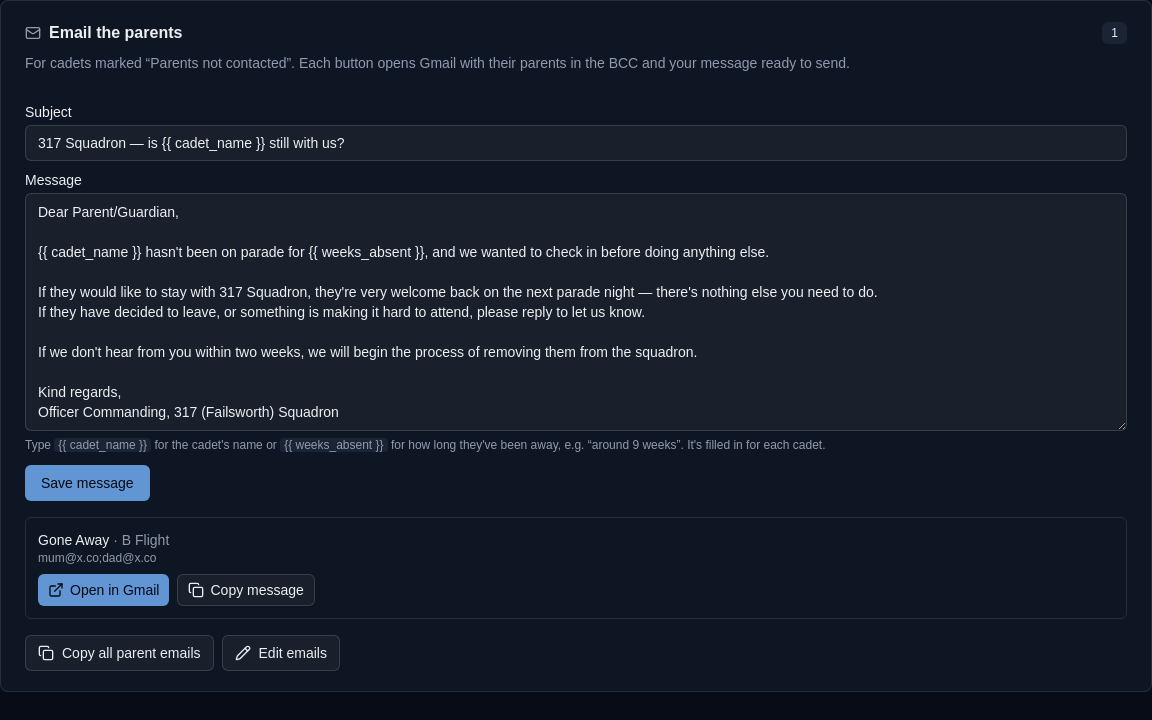
it: ParentEmailsCard › Save stays disabled until a row is changed
Click the button "Edit emails": (281, 653) [222,635,340,671]
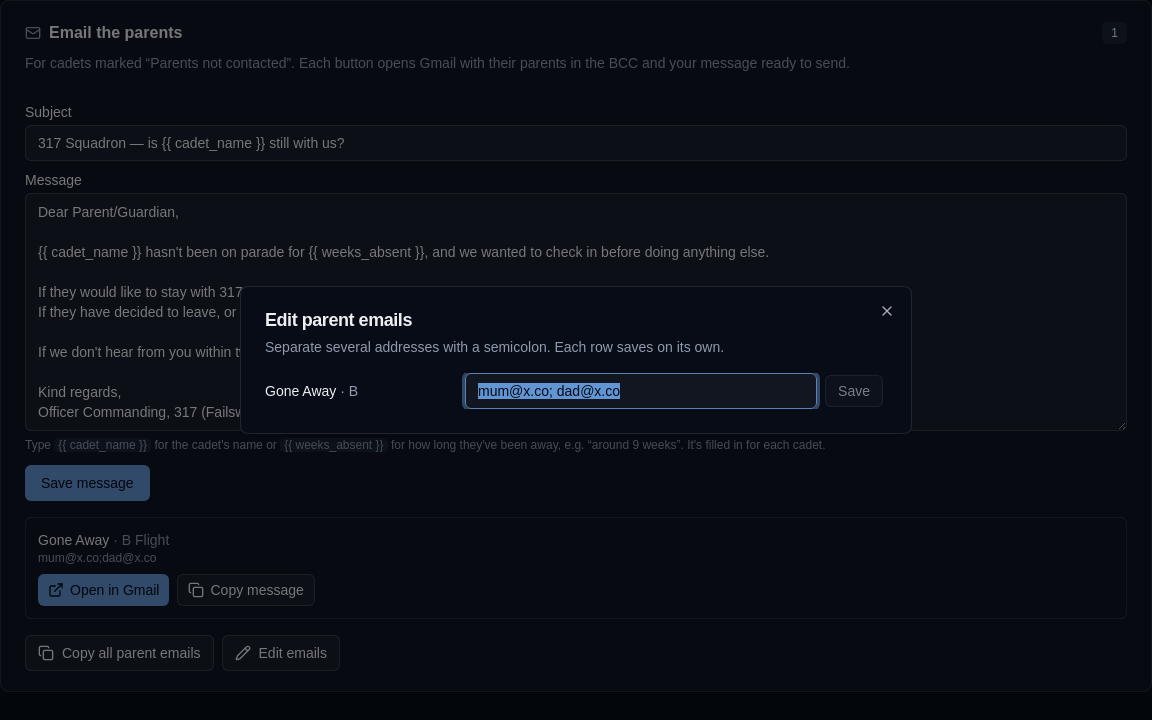
Expected: the button with aria-label "Save Gone Away" is disabled, [825,375,883,407]
